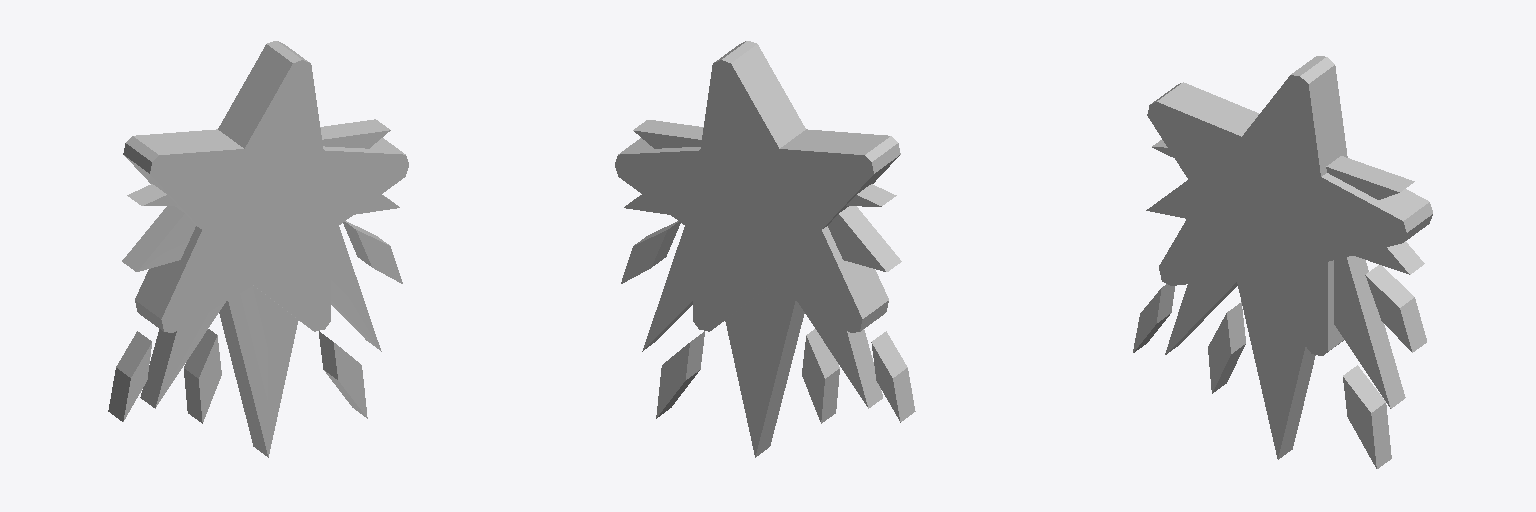
File: ScoreBooster.obj
3 views of the same model, side by side, from view 1: azimuth 30°, elevation 25°; view 2: azimuth 150°, elevation 25°; view 3: azimuth 330°, elevation 25° (orthographic).
Parts seen in each view (by area): view 1: 1; view 2: 1; view 3: 1.
Part boxes in pixels (x1,y1,x2,y2): 1: (108, 41, 408, 457); 1: (615, 41, 915, 457); 1: (1133, 56, 1432, 468).
Bounding box in the file's own units: 0.226 × 0.3045 × 0.0372.